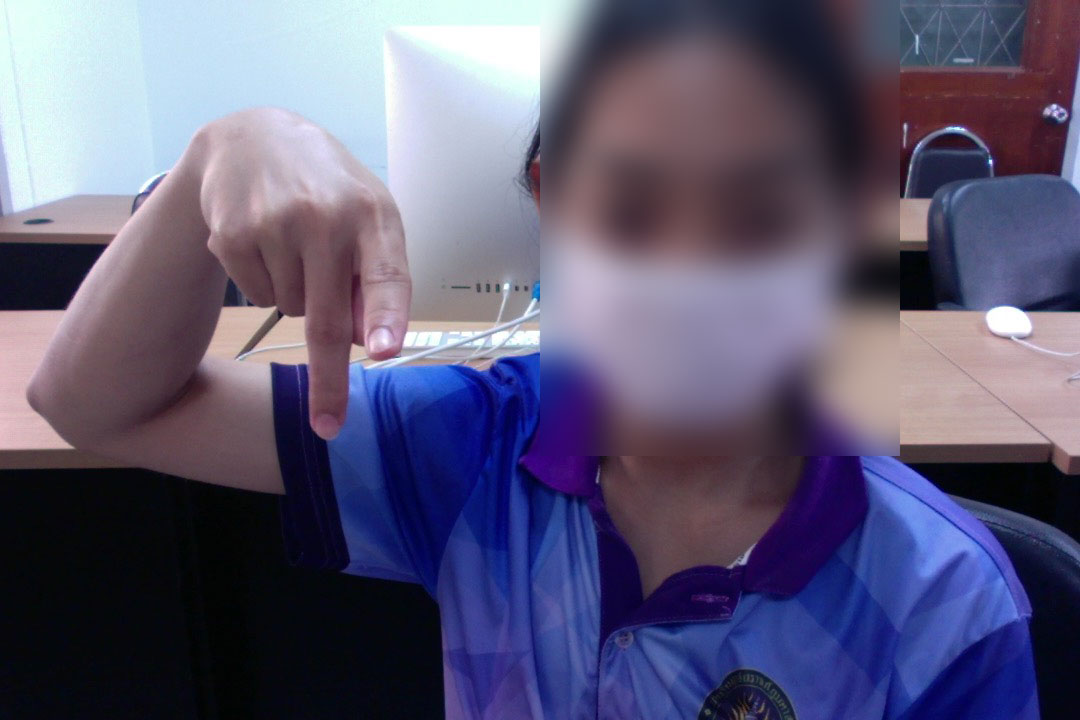por: (179, 91, 423, 460)
